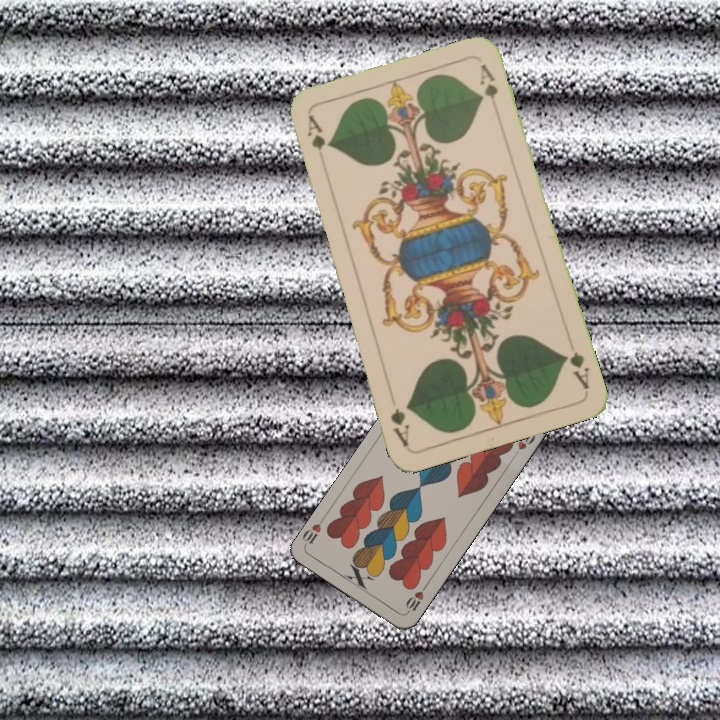GA: (303, 111, 329, 170), (559, 347, 592, 392)
H10: (401, 581, 430, 617)
